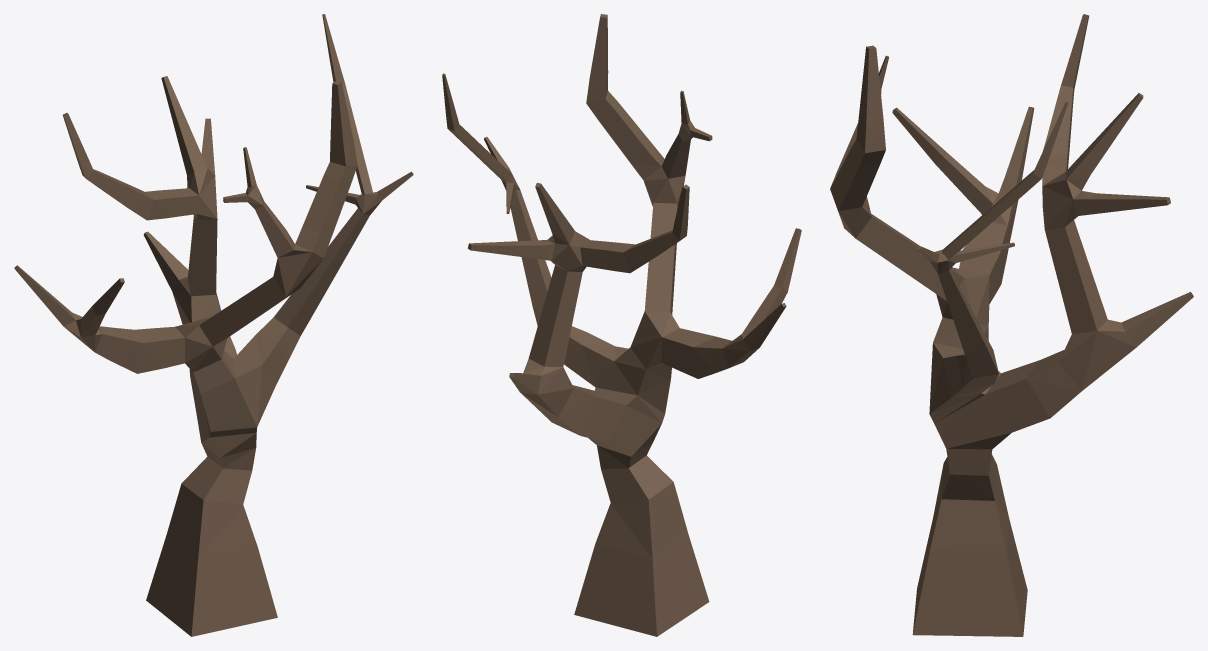
Rendered from dead_tree.fbx.
3 renders of one model, left to right at view 1: azimuth 30°, elevation 25°; view 2: azimuth 150°, elevation 25°; view 3: azimuth 270°, elevation 25°, orthographic. The views are drawn at different scales.
Parts seen in each view (by area): view 1: dead_tree_LOD0; view 2: dead_tree_LOD0; view 3: dead_tree_LOD0.
Part boxes in pixels (x1,y1,x2,y2): dead_tree_LOD0: (14,14,413,636); dead_tree_LOD0: (442,14,801,636); dead_tree_LOD0: (830,14,1193,636).
Size of what is drawn, in the model's own units: 348 by 512 by 276.
